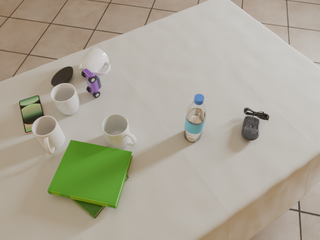book: (48, 140, 132, 209)
bottle: (184, 94, 206, 142)
cup: (31, 116, 65, 154), (102, 114, 136, 150), (79, 47, 110, 76), (51, 83, 79, 115)
mouse: (242, 108, 269, 141), (51, 67, 73, 86)
phone: (19, 96, 44, 134)
toy_car: (81, 69, 101, 98)
